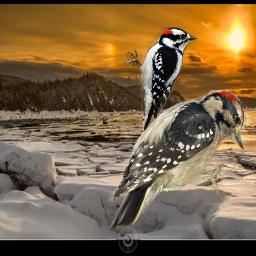Woodpecker: (97, 88, 245, 236), (123, 27, 197, 138)
